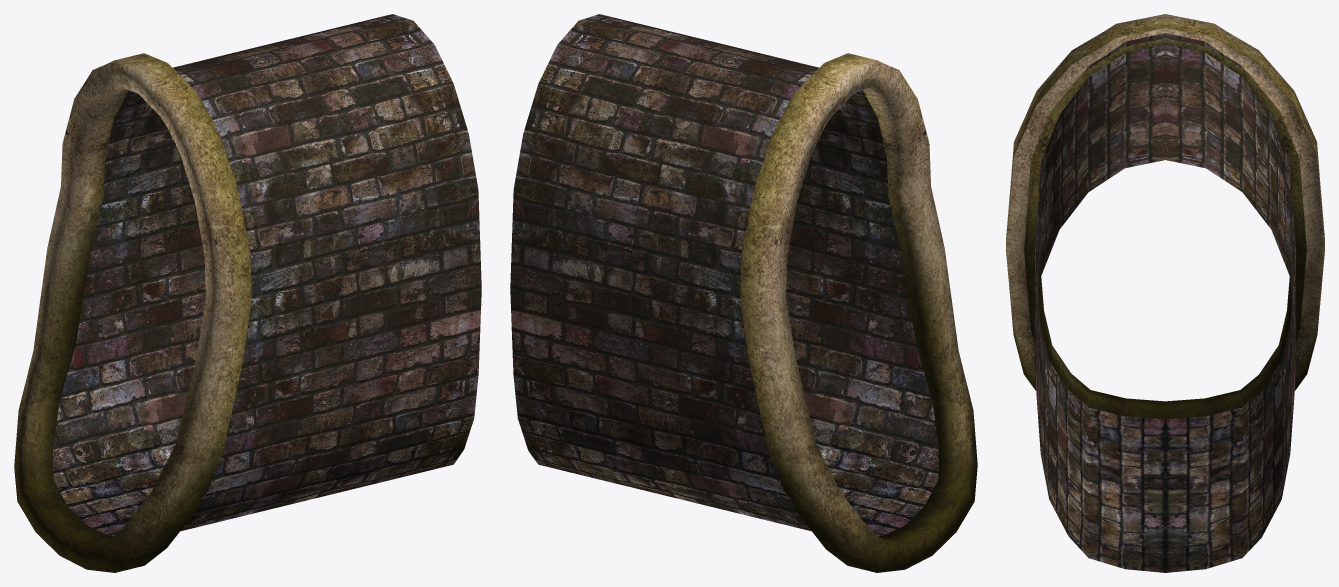
The model's file is wall_tunnel_entrance.DAE.
3 renders of one model, left to right at view 1: azimuth 30°, elevation 25°; view 2: azimuth 150°, elevation 25°; view 3: azimuth 270°, elevation 25°, orthographic. The views are drawn at different scales.
Parts seen in each view (by area): view 1: wall_tunnel_entrance, wall_tunnel_arch; view 2: wall_tunnel_entrance, wall_tunnel_arch; view 3: wall_tunnel_entrance, wall_tunnel_arch.
Part boxes in pixels (left/top/right/bottom): wall_tunnel_entrance: left=53, top=14, right=481, bottom=535; wall_tunnel_arch: left=14, top=53, right=251, bottom=572; wall_tunnel_entrance: left=510, top=14, right=938, bottom=535; wall_tunnel_arch: left=740, top=53, right=977, bottom=572; wall_tunnel_entrance: left=1034, top=32, right=1296, bottom=572; wall_tunnel_arch: left=1006, top=14, right=1324, bottom=419.
Size of the model in its own units: 2.11 by 2.65 by 1.71.
